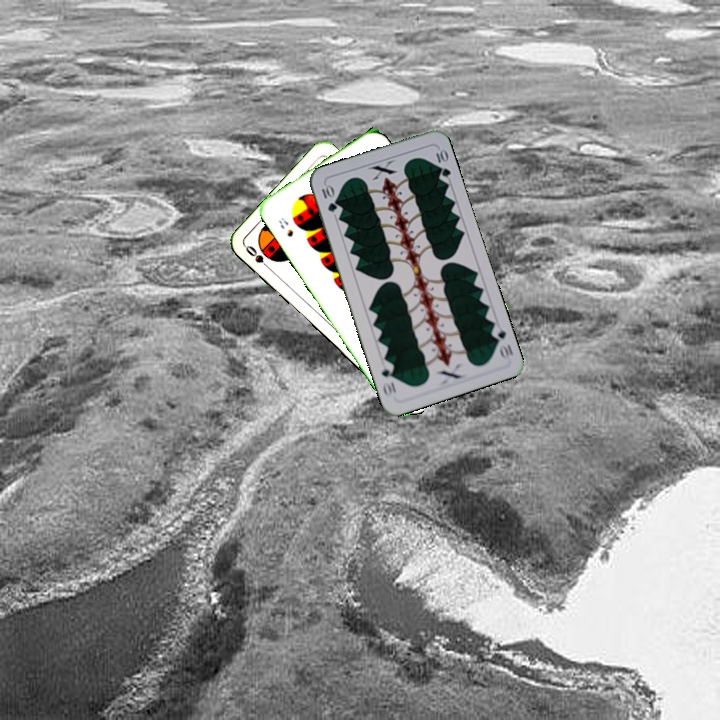G10: (487, 321, 515, 361), (317, 181, 339, 215)
S8: (274, 213, 296, 240)
SO: (241, 241, 274, 273)
